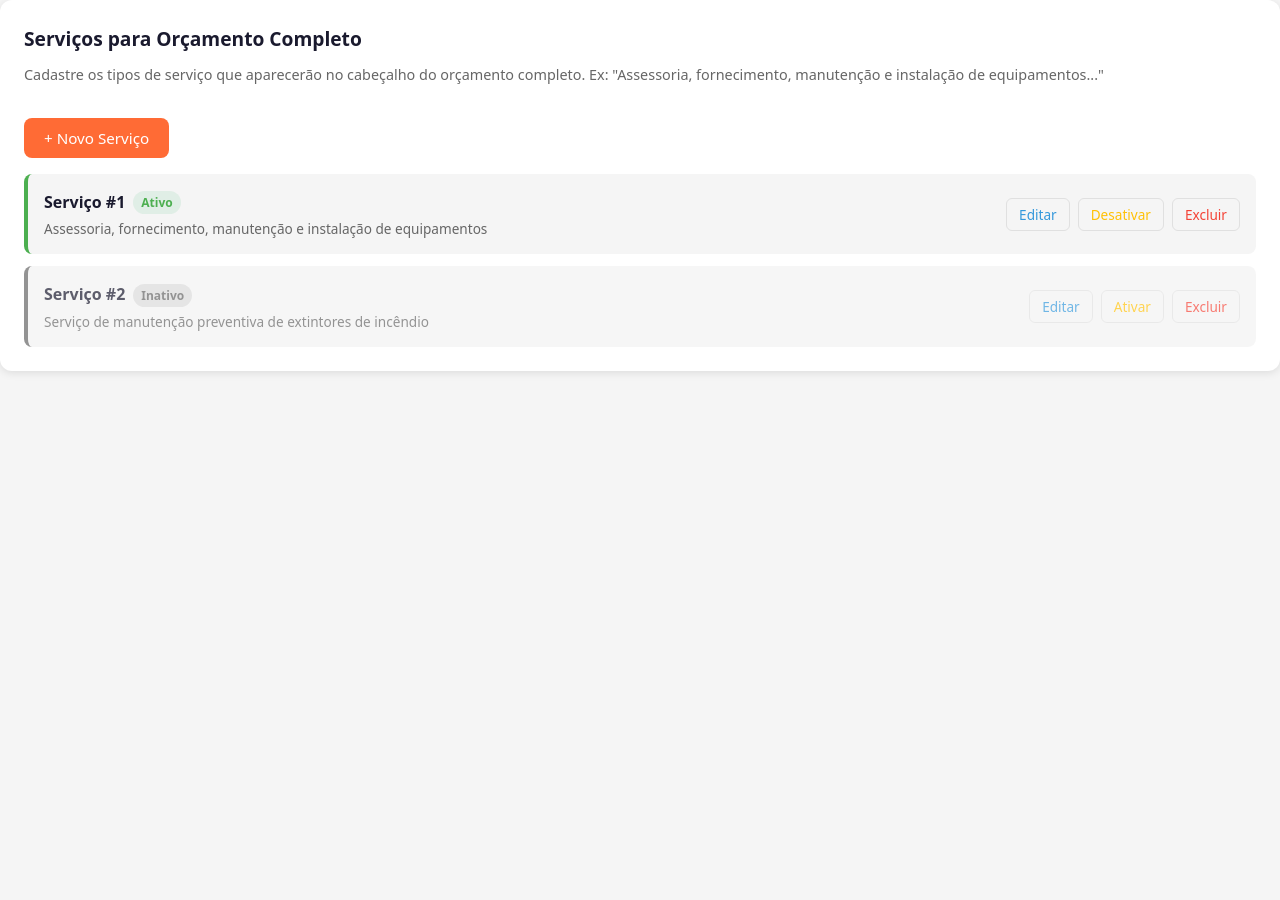
Scenario: ServicosTab › Modal de novo serviço › deve fechar modal ao clicar em cancelar
Step 1. Click the button "+ Novo Serviço" → [97, 138], box [24, 118, 169, 158]
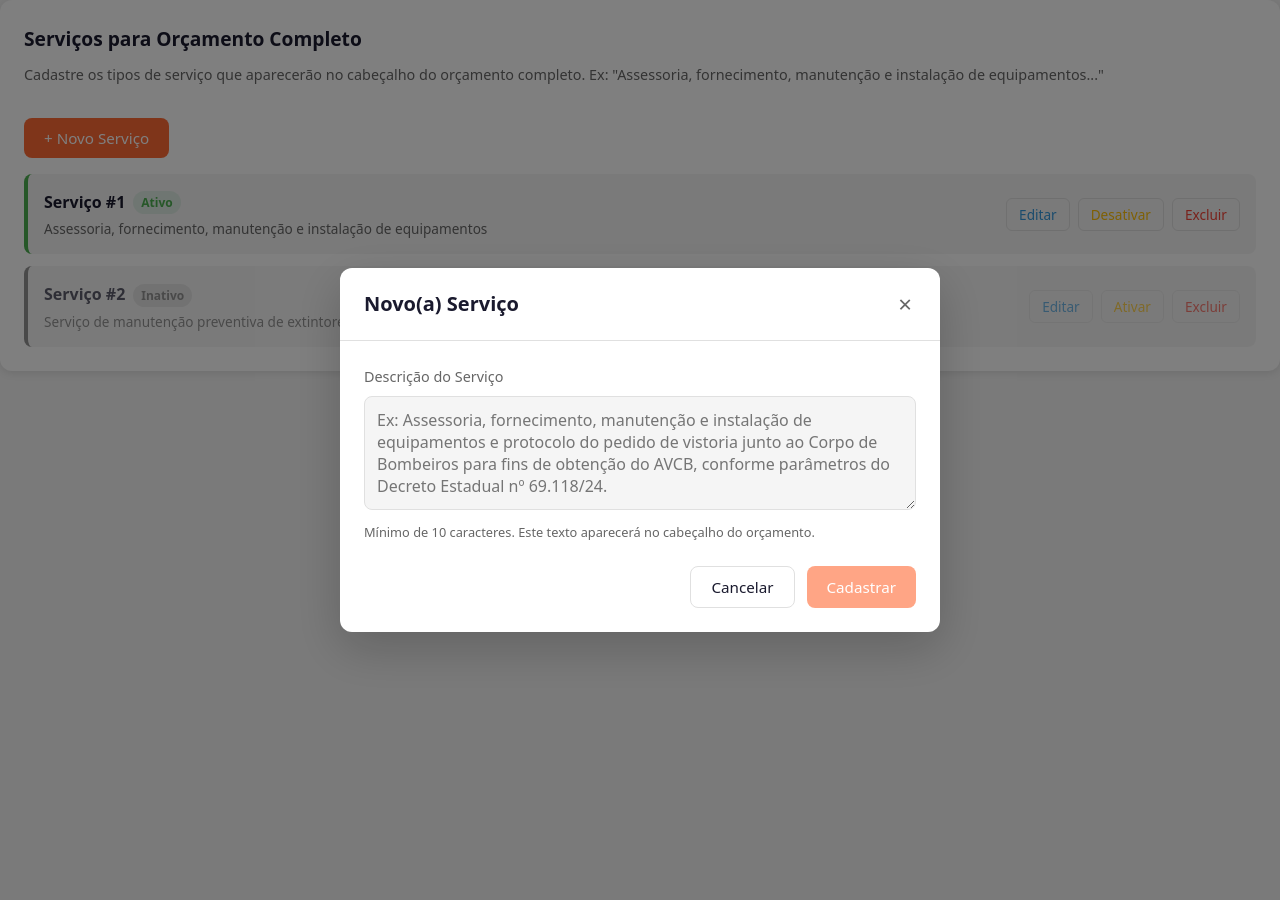
Expected: the heading "Novo(a) Serviço" is shown, [364, 288, 519, 320]
Step 2. Click the button "Cancelar" → [742, 587], box [690, 566, 794, 608]
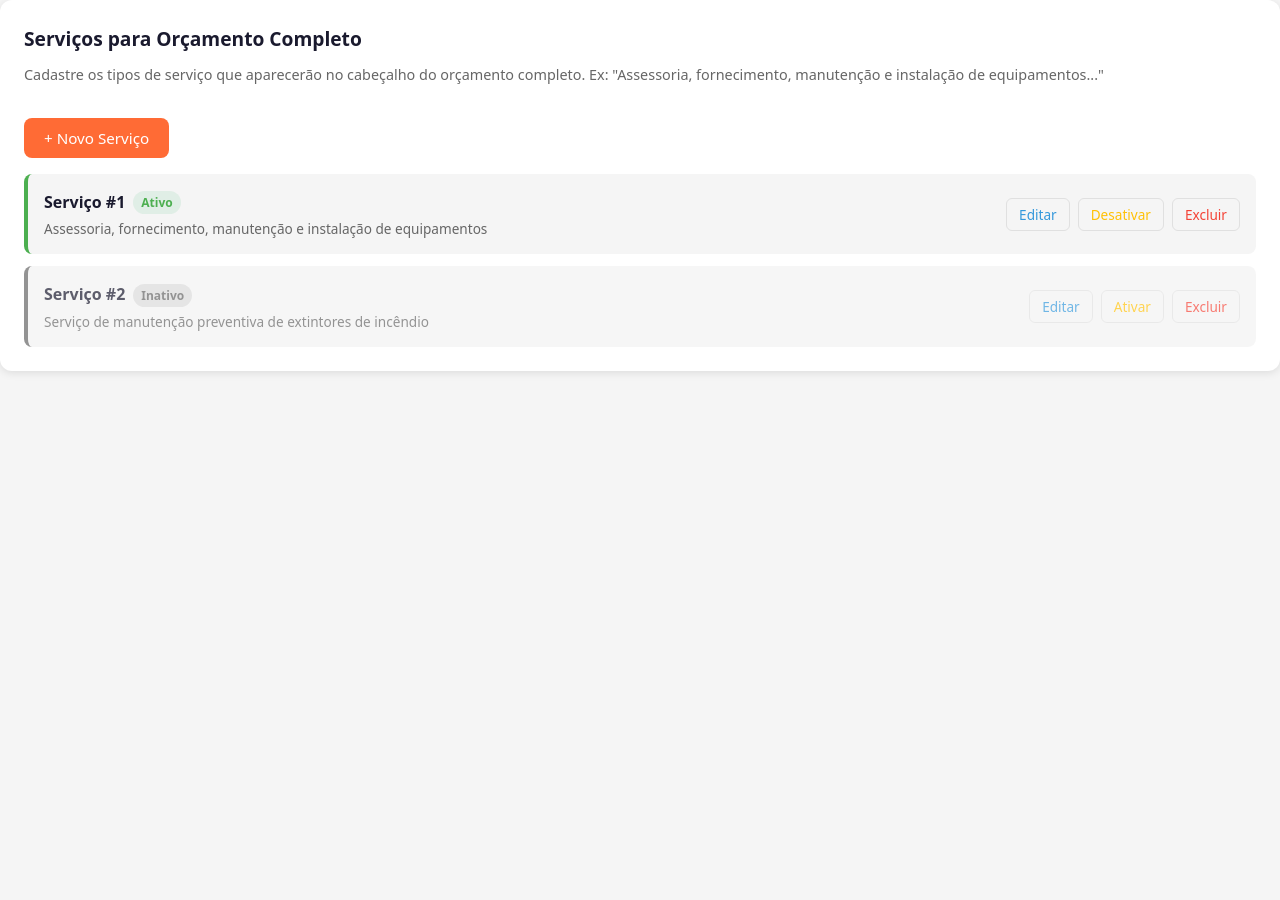
Expected: the heading "Novo(a) Serviço" is gone
